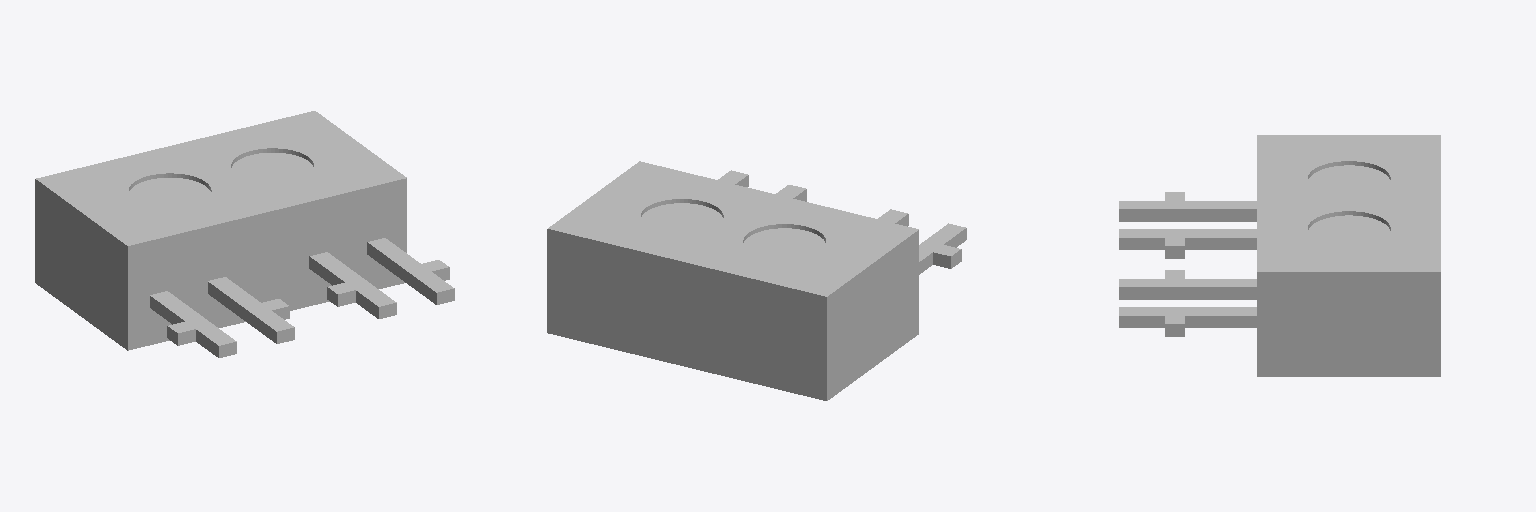
Rendered from IRIDIAepuck3D_Nov2019_Proximity2.obj.
3 renders of one model, left to right at view 1: azimuth 30°, elevation 25°; view 2: azimuth 150°, elevation 25°; view 3: azimuth 270°, elevation 25°, orthographic.
Parts seen in each view (by area): view 1: brep_83; view 2: brep_83; view 3: brep_83.
Part boxes in pixels (x1,y1,x2,y2): brep_83: (35,111,454,357); brep_83: (547,161,966,400); brep_83: (1119,135,1440,376).
Bounding box in the file's own units: 0.007 × 0.0025 × 0.007.